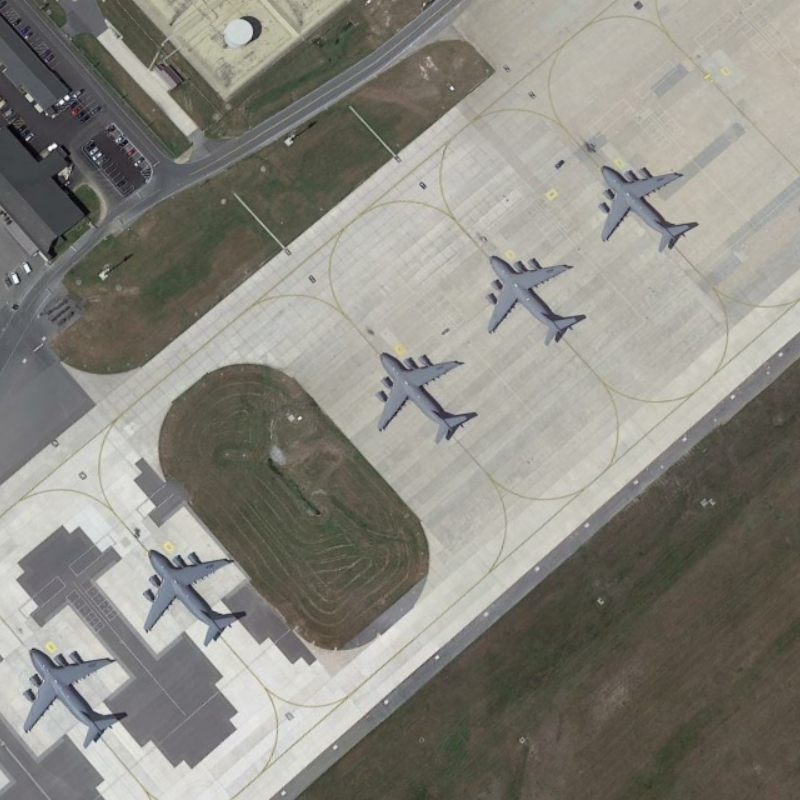A3: (14, 638, 137, 756), (139, 538, 251, 653), (369, 341, 480, 451), (595, 151, 702, 262), (482, 244, 589, 355)
